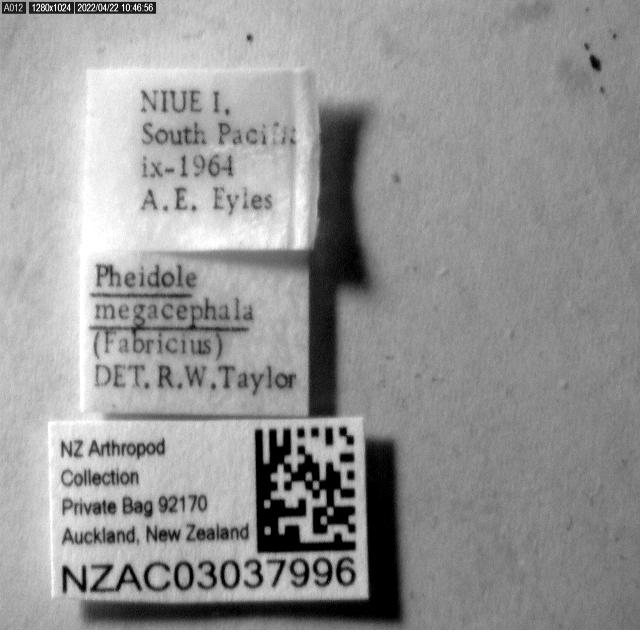typed_label: (49, 417, 369, 603), (82, 69, 320, 252), (81, 252, 309, 416)
